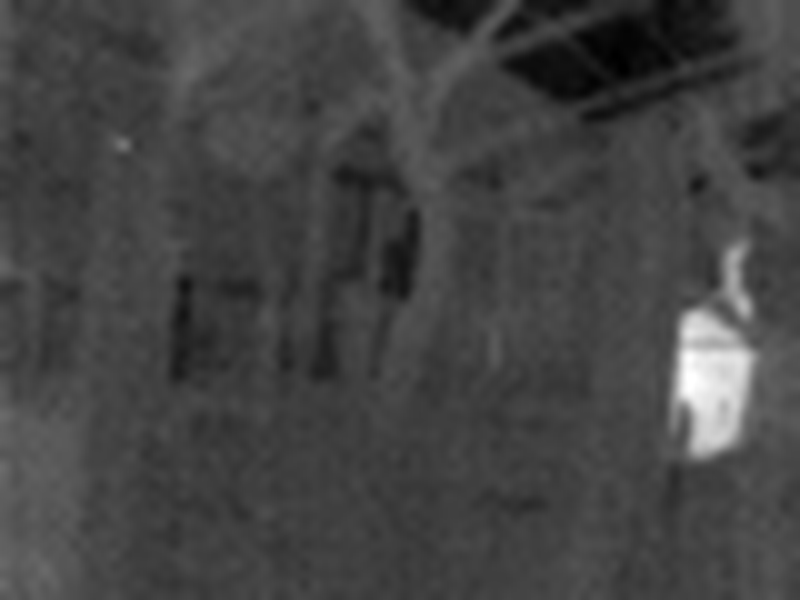elephant: (634, 220, 754, 470)
